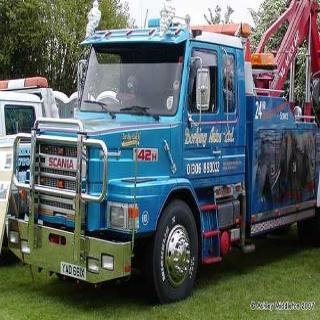Towing_truck: (6, 4, 318, 305)
